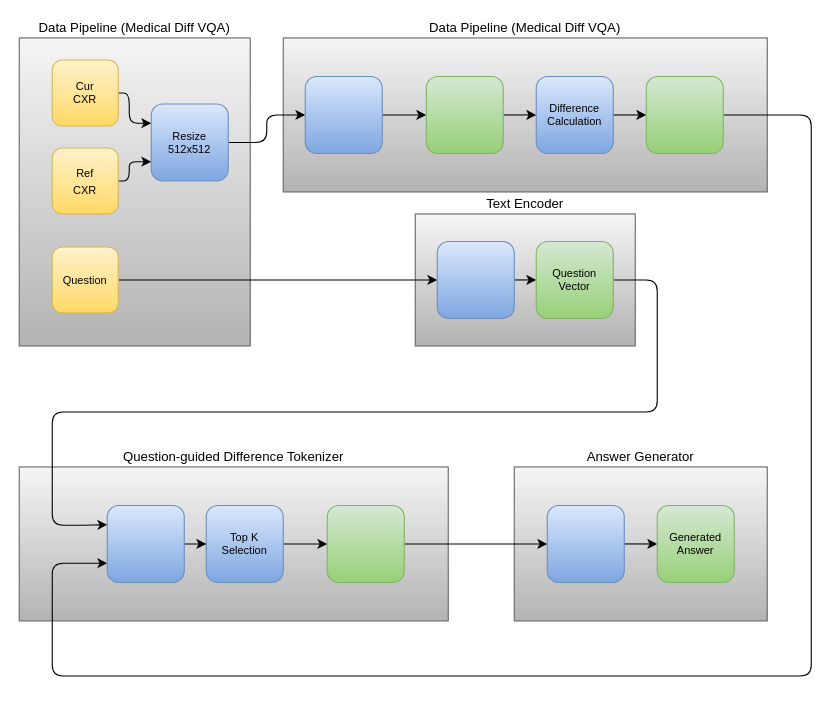
The diagram is 839 pixels wide and 704 high, and some of its shapes have lost their labels. The shapes that lost their labels are listed below. From the top down, each one's centre as x and y in pixels, then its label:
At point 343,114: "ResNet-18".
At point 464,114: "Feature Maps".
At point 684,114: "Residual Map R+, R-, R_abs".
At point 475,279: "Clinical BERT".
At point 145,543: "CrossAttenion Text, Image".
At point 365,543: "Selected Visual Tokens".
At point 585,543: "Transformer Decoder".
